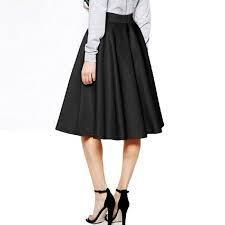skirt: (55, 12, 165, 141)
